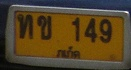txt02: (36, 14, 53, 41)
txt18: (16, 13, 34, 39)
